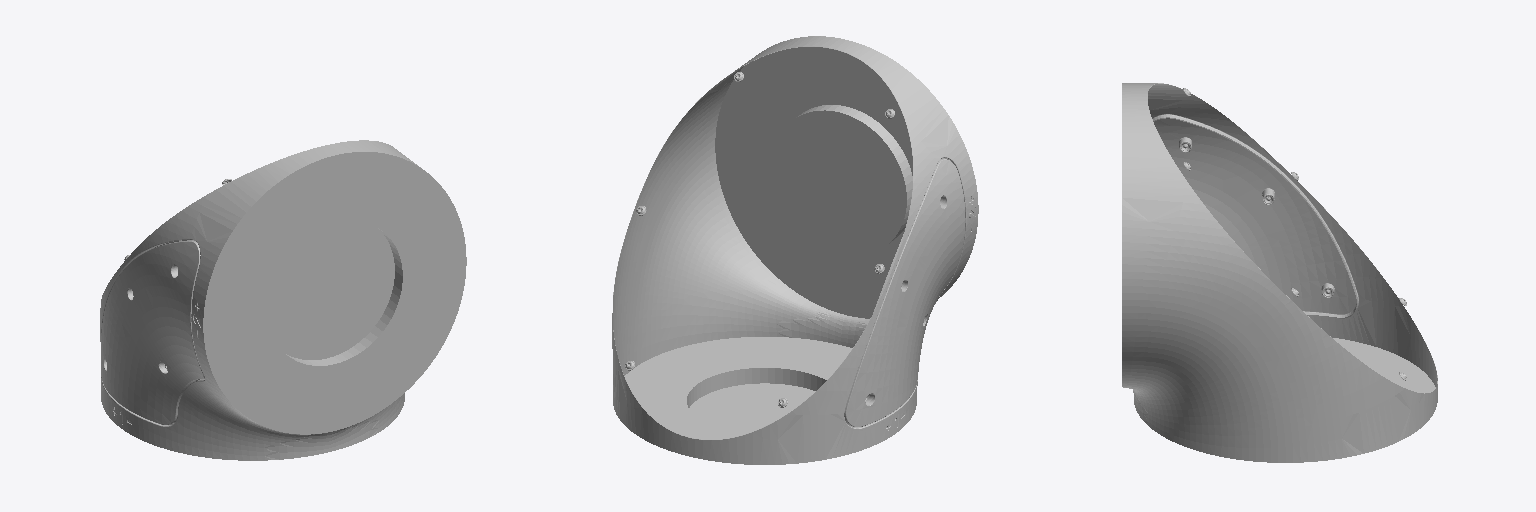
Rendered from geo-1d033b06-3c11-4bdb-ba95-4411405ccb30.obj.
3 renders of one model, left to right at view 1: azimuth 30°, elevation 25°; view 2: azimuth 150°, elevation 25°; view 3: azimuth 270°, elevation 25°, orthographic.
Parts seen in each view (by area): view 1: 1; view 2: 1; view 3: 1.
Part boxes in pixels (bbox=[...]): 1: bbox=[100, 140, 466, 460]; 1: bbox=[612, 36, 978, 464]; 1: bbox=[1122, 83, 1437, 462].
Bounding box in the file's own units: 194 × 223 × 202.